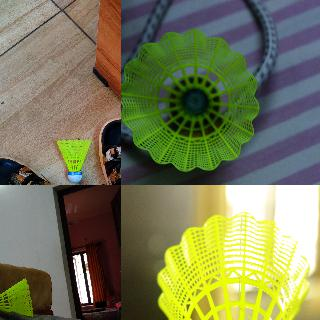shuttlecock: (121, 29, 259, 172), (155, 211, 311, 319), (54, 138, 92, 182), (0, 278, 33, 317)
